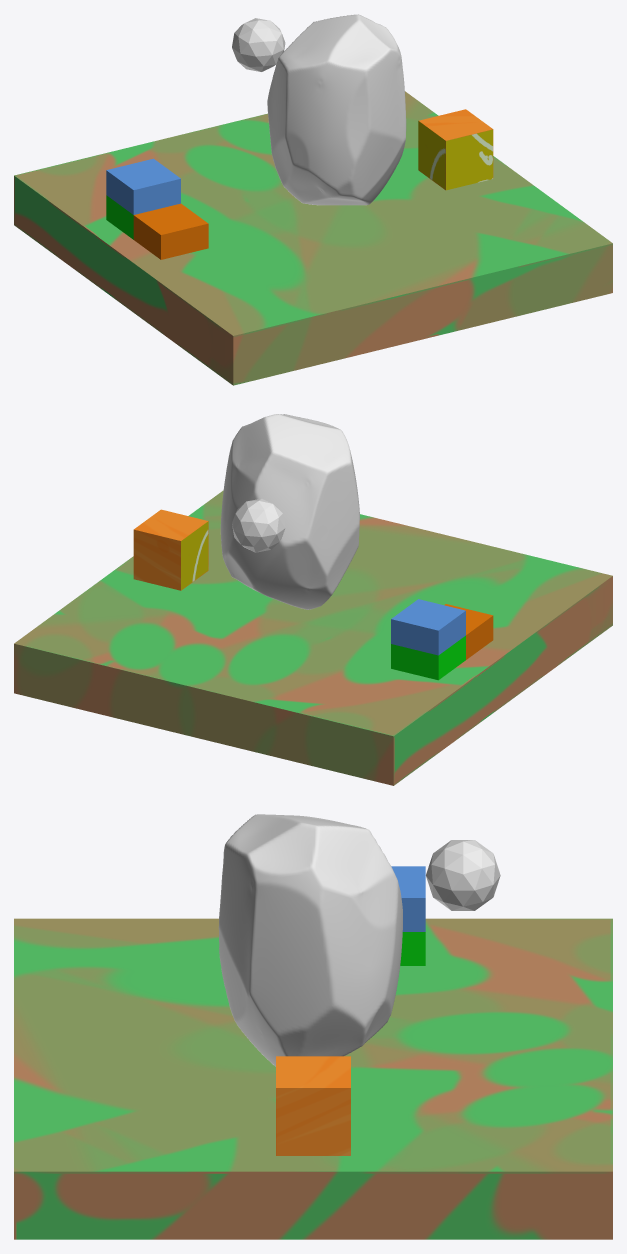
File: level.glb
3 views of the same model, one above another, from view 1: azimuth 30°, elevation 25°; view 2: azimuth 150°, elevation 25°; view 3: azimuth 270°, elevation 25° (orthographic). The views are drawn at different scales.
Parts seen in each view (by area): view 1: Floor-col, Rock-rigid, Obj.001-col, Obj-col, Obj.005-col, Icosphere-rigid, Obj.002-col; view 2: Floor-col, Rock-rigid, Obj.001-col, Obj.005-col, Icosphere-rigid, Obj.002-col, Obj-col; view 3: Floor-col, Rock-rigid, Obj.001-col, Icosphere-rigid, Obj.005-col, Obj.002-col.
Part boxes in pixels (x1,y1,x2,y2): Floor-col: [14, 91, 612, 385]; Rock-rigid: [267, 14, 406, 205]; Obj.001-col: [418, 109, 493, 190]; Obj-col: [133, 203, 208, 259]; Obj.005-col: [106, 158, 180, 214]; Icosphere-rigid: [232, 18, 285, 71]; Obj.002-col: [106, 195, 133, 239]; Floor-col: [14, 490, 612, 785]; Rock-rigid: [220, 414, 359, 609]; Obj.001-col: [133, 509, 208, 590]; Obj.005-col: [391, 599, 465, 655]; Icosphere-rigid: [232, 498, 285, 552]; Obj.002-col: [391, 635, 465, 680]; Obj-col: [444, 604, 493, 659]; Floor-col: [14, 918, 612, 1239]; Rock-rigid: [218, 814, 402, 1066]; Obj.001-col: [276, 1056, 350, 1155]; Icosphere-rigid: [426, 840, 500, 910]; Obj.005-col: [391, 866, 425, 931]; Obj.002-col: [400, 932, 425, 965].
Bounding box in the file's own units: 16 × 9.36 × 16.
5 materials, 2 textured.
